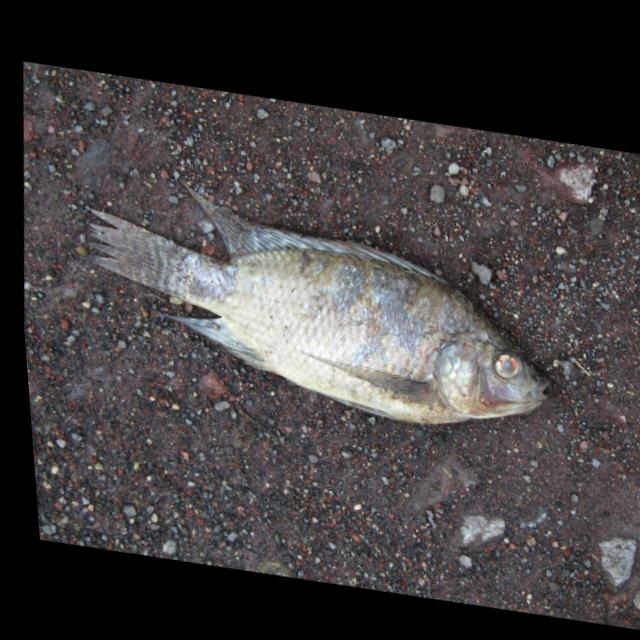Tilapia: (69, 165, 564, 443)
